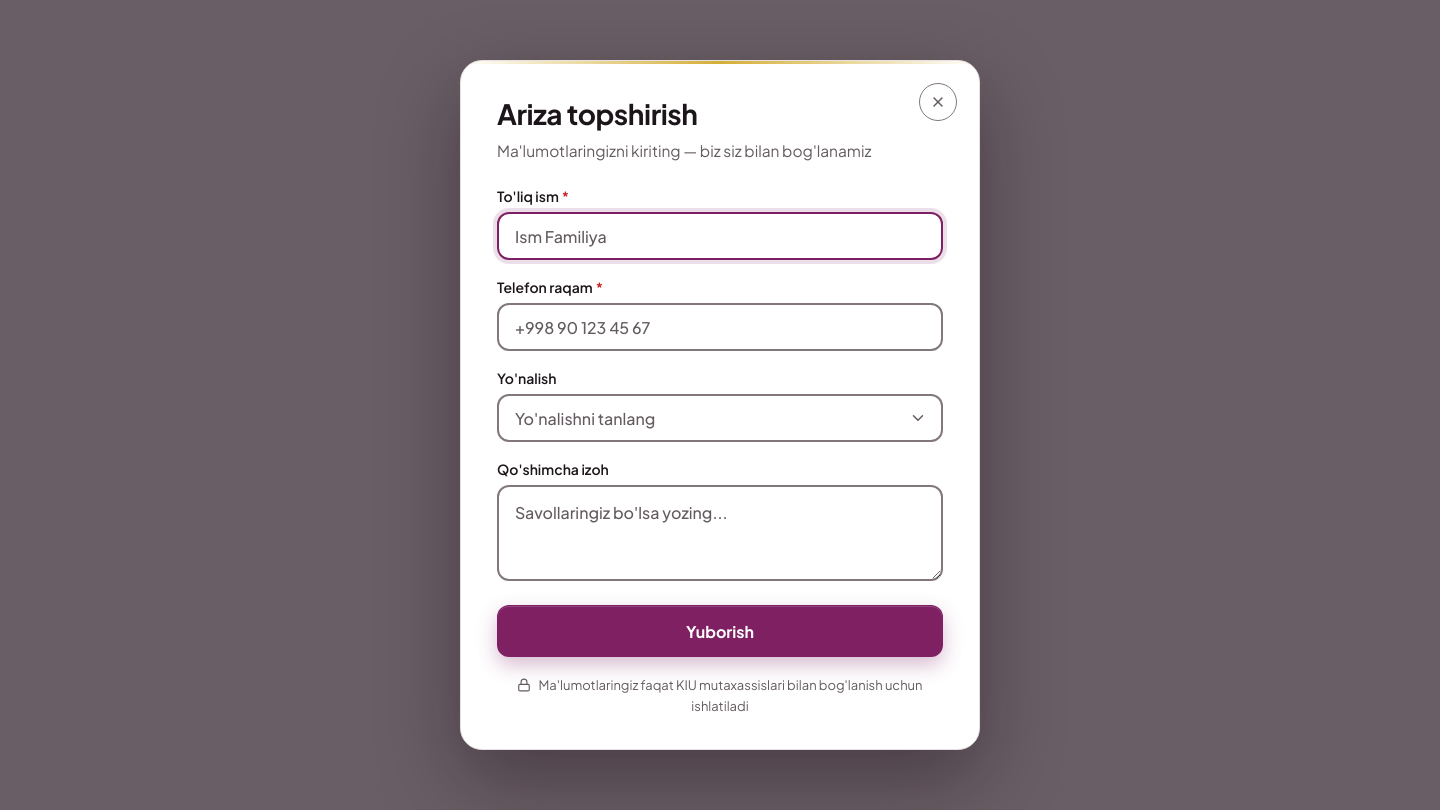
Test: ApplyModal › bo'sh forma — xatolar ko'rinadi, so'rov yuborilmaydi
Click the button "Yuborish".
click(720, 631)  # box [497,605,943,657]
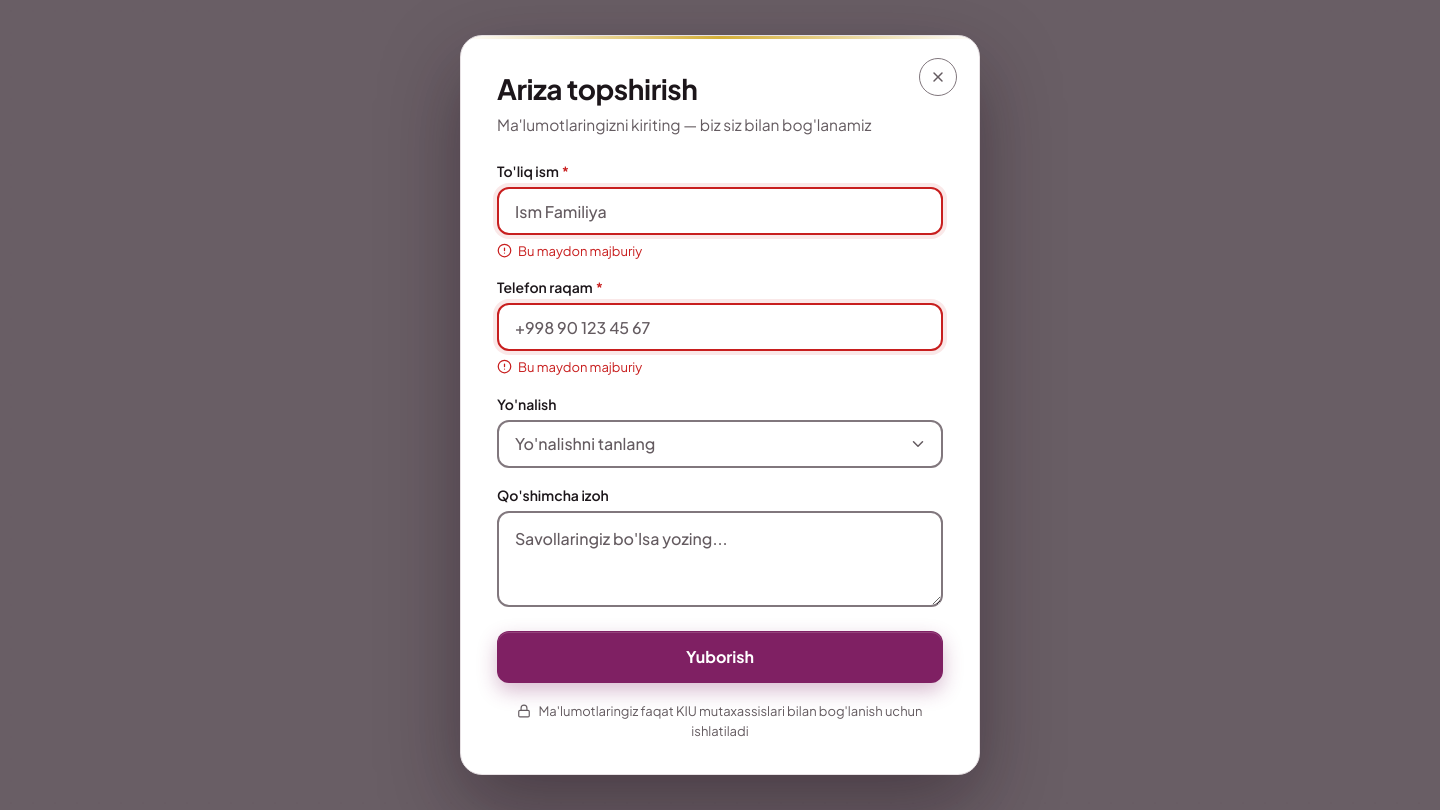
Result: the text "Bu maydon majburiy" is shown 2 times at [518,242,642,260]; [518,358,642,377]
